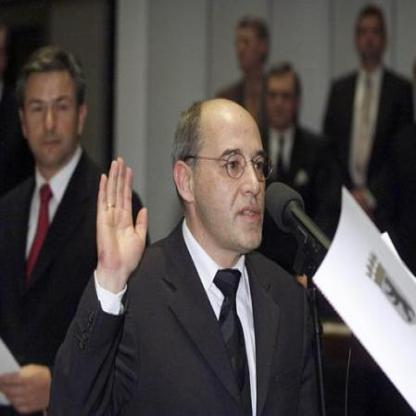face: (195, 94, 276, 259), (24, 55, 81, 164), (266, 68, 297, 128), (358, 10, 386, 62), (235, 20, 263, 71)
